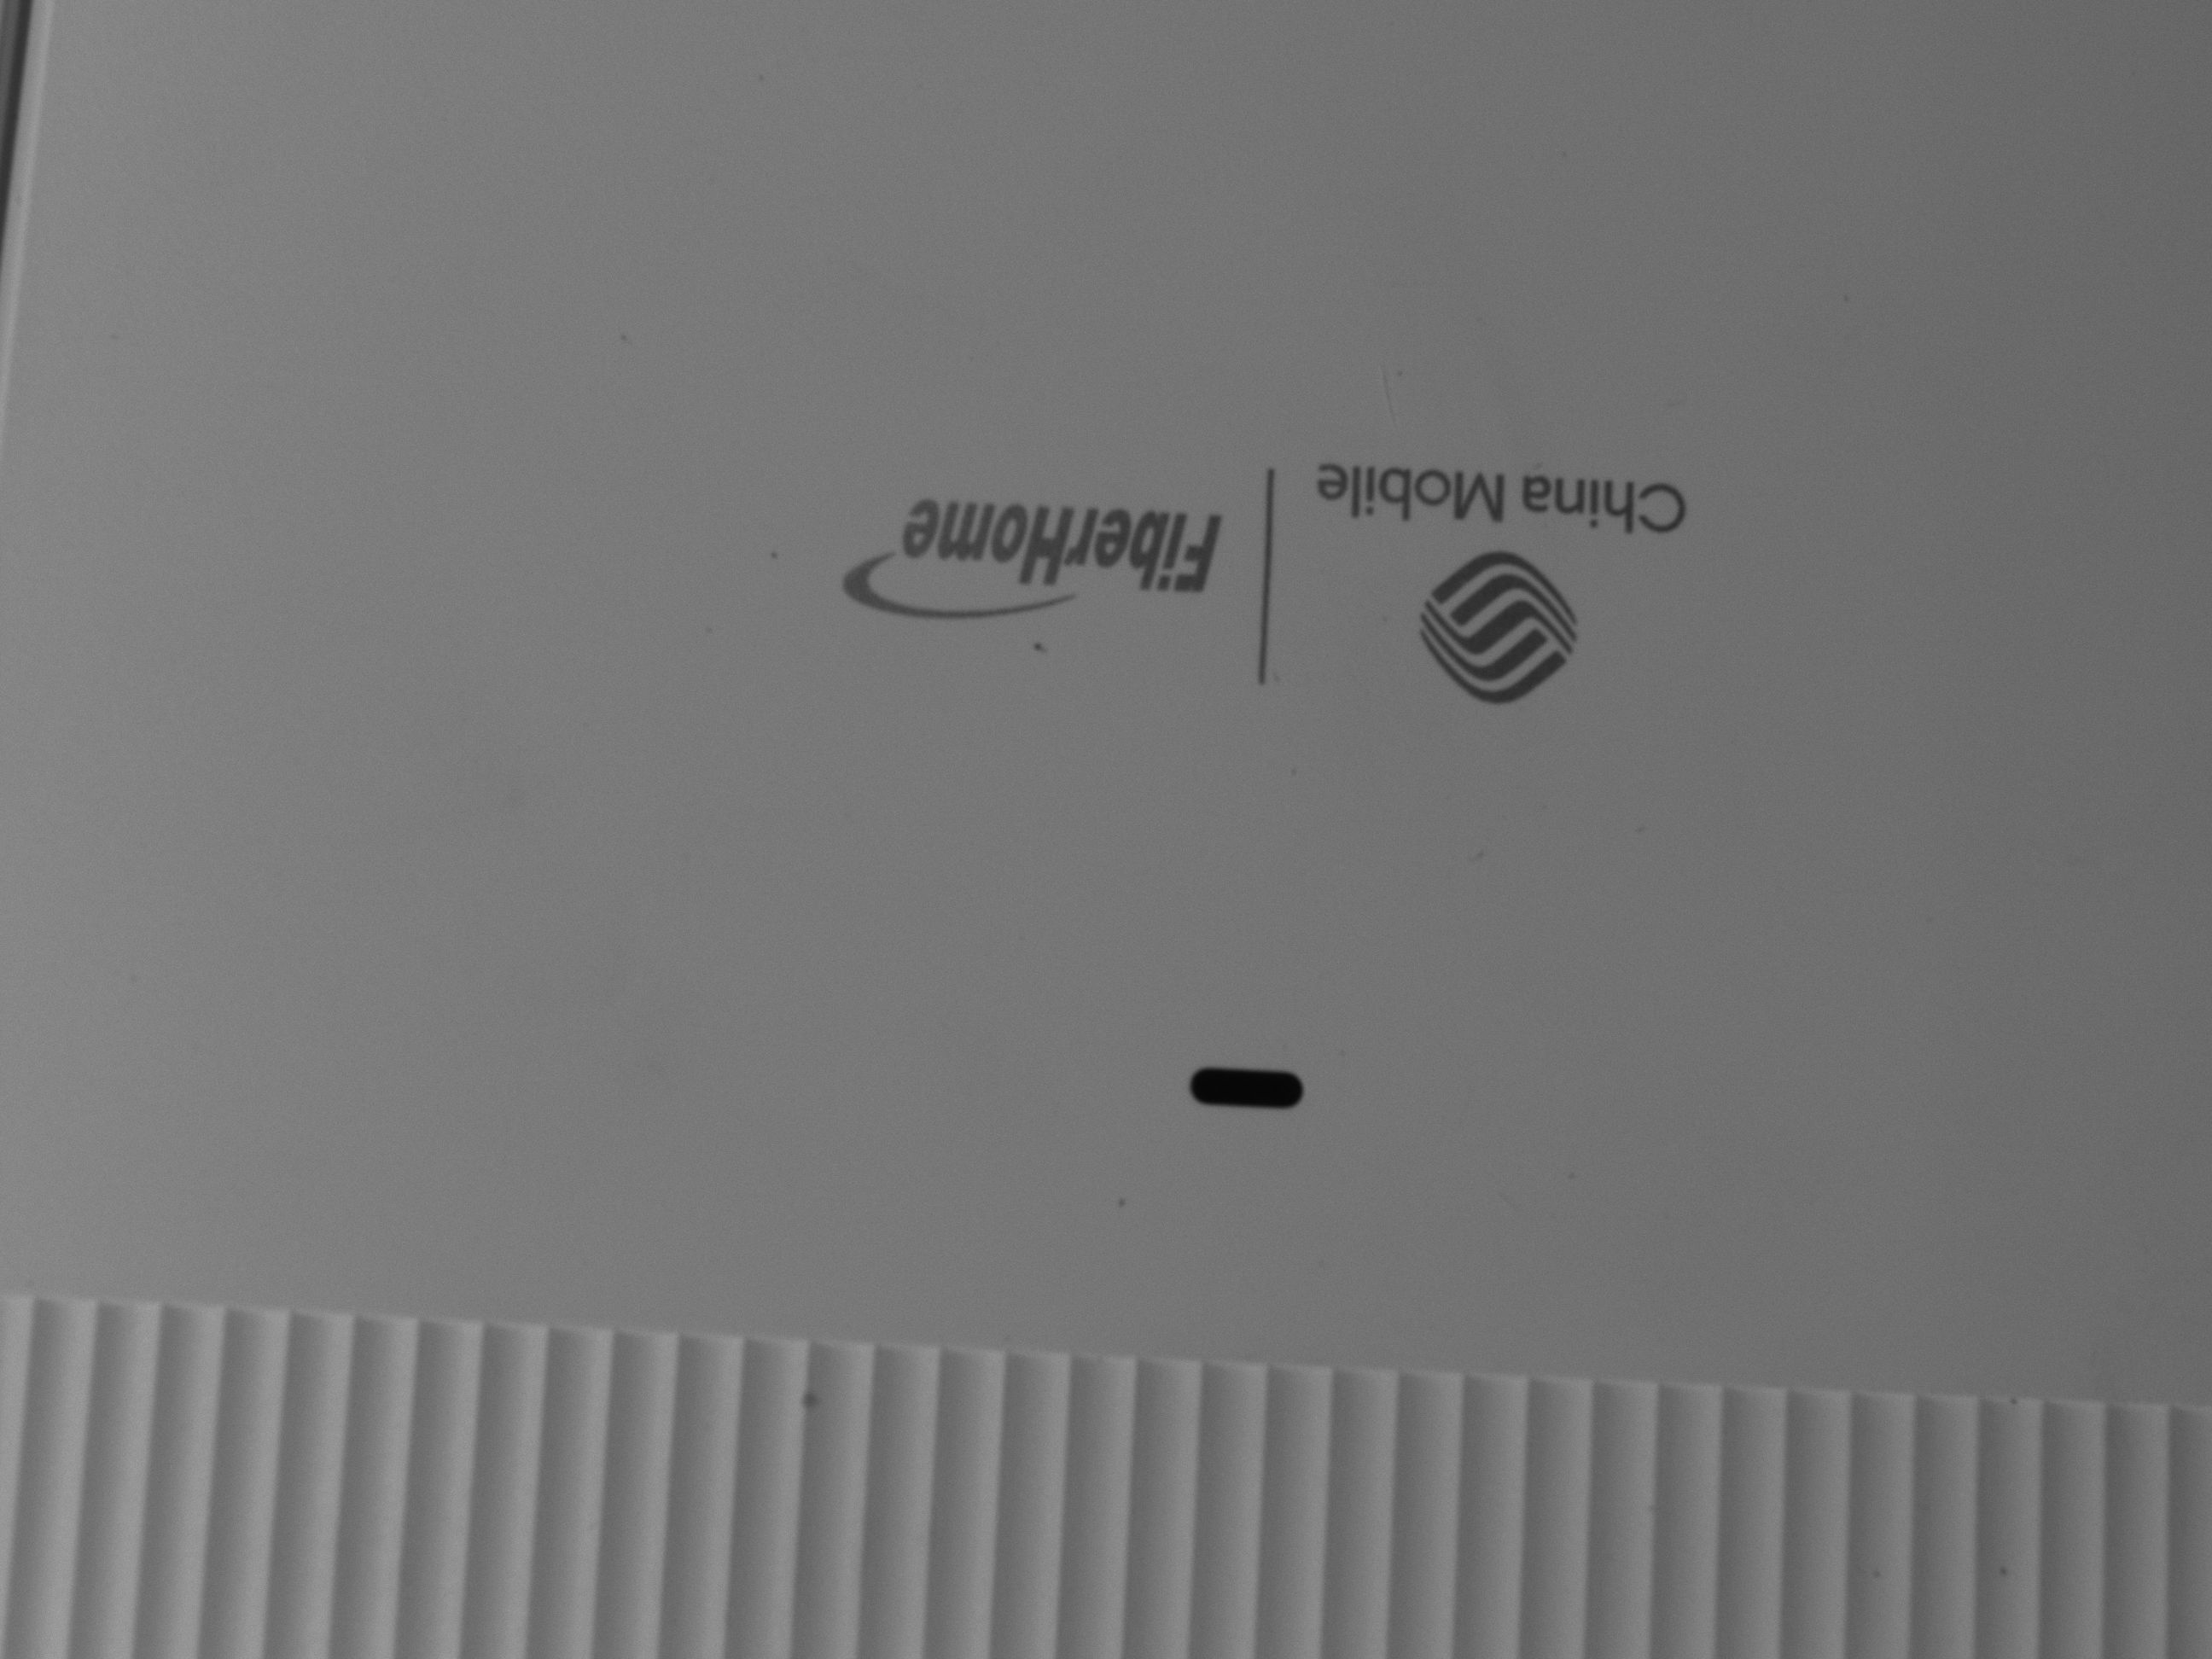BX_HG6371FMobileFiberhome: (798, 378, 1728, 697)
